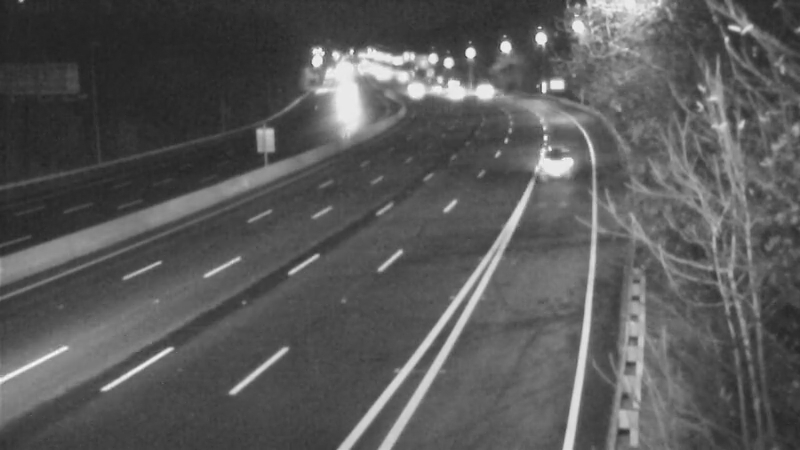vehicle: (516, 117, 596, 197), (456, 63, 506, 113), (391, 69, 441, 119), (425, 68, 475, 118)
